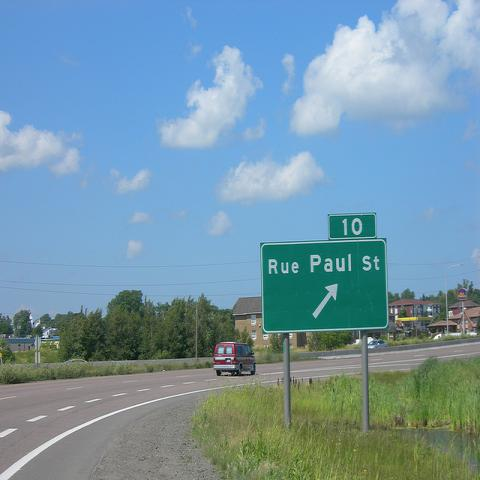car: (213, 342, 256, 376), (367, 339, 389, 350)
